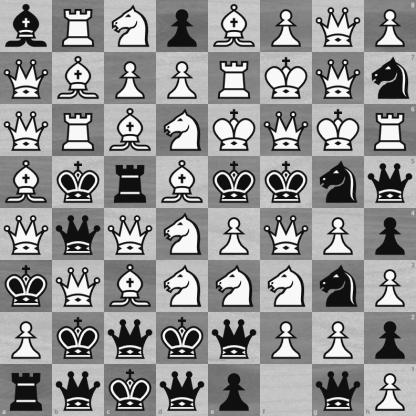B: (1, 157, 52, 208), (53, 53, 104, 104), (105, 105, 156, 156), (105, 261, 156, 312), (157, 157, 208, 208), (209, 1, 260, 52)
K: (209, 105, 260, 156), (261, 53, 312, 104), (313, 105, 364, 156)
N: (105, 1, 156, 52), (157, 105, 208, 156), (157, 209, 208, 260), (157, 261, 208, 312), (209, 261, 260, 312), (261, 261, 312, 312)
P: (364, 0, 416, 52), (364, 260, 416, 312), (364, 364, 416, 416), (1, 313, 52, 364), (105, 53, 156, 104), (157, 53, 208, 104), (209, 209, 260, 260), (261, 1, 312, 52), (261, 313, 312, 364), (313, 209, 364, 260), (313, 313, 364, 364)
Q: (1, 53, 52, 104), (1, 105, 52, 156), (1, 209, 52, 260), (53, 261, 104, 312), (105, 209, 156, 260), (261, 105, 312, 156), (261, 209, 312, 260), (313, 1, 364, 52), (313, 53, 364, 104)
R: (364, 104, 416, 156), (53, 1, 104, 52), (53, 105, 104, 156), (209, 53, 260, 104)
b: (1, 1, 52, 52)
board: (0, 0, 415, 415)
k: (104, 364, 156, 416), (1, 261, 52, 312), (53, 157, 104, 208), (53, 313, 104, 364), (157, 313, 208, 364), (209, 157, 260, 208), (261, 157, 312, 208)
n: (364, 52, 416, 104), (313, 157, 364, 208), (313, 261, 364, 312)
p: (364, 312, 416, 364), (209, 364, 260, 416), (364, 209, 416, 260), (157, 1, 208, 52)
q: (156, 364, 209, 416), (364, 156, 416, 209), (52, 364, 104, 416), (312, 364, 364, 416), (53, 209, 104, 260), (105, 313, 156, 364), (209, 313, 260, 364)
r: (0, 364, 52, 416), (105, 157, 156, 208)
